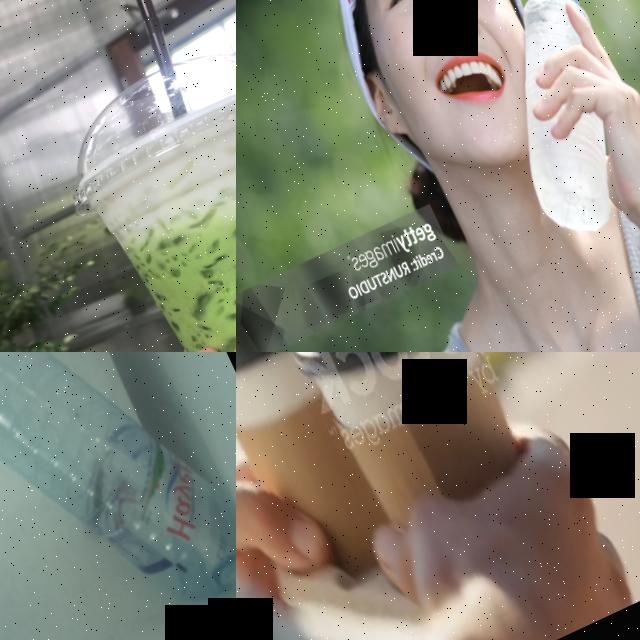bottle: (0, 352, 236, 640), (448, 0, 640, 246)
cup: (262, 352, 571, 594), (32, 15, 236, 352), (236, 352, 449, 627)
